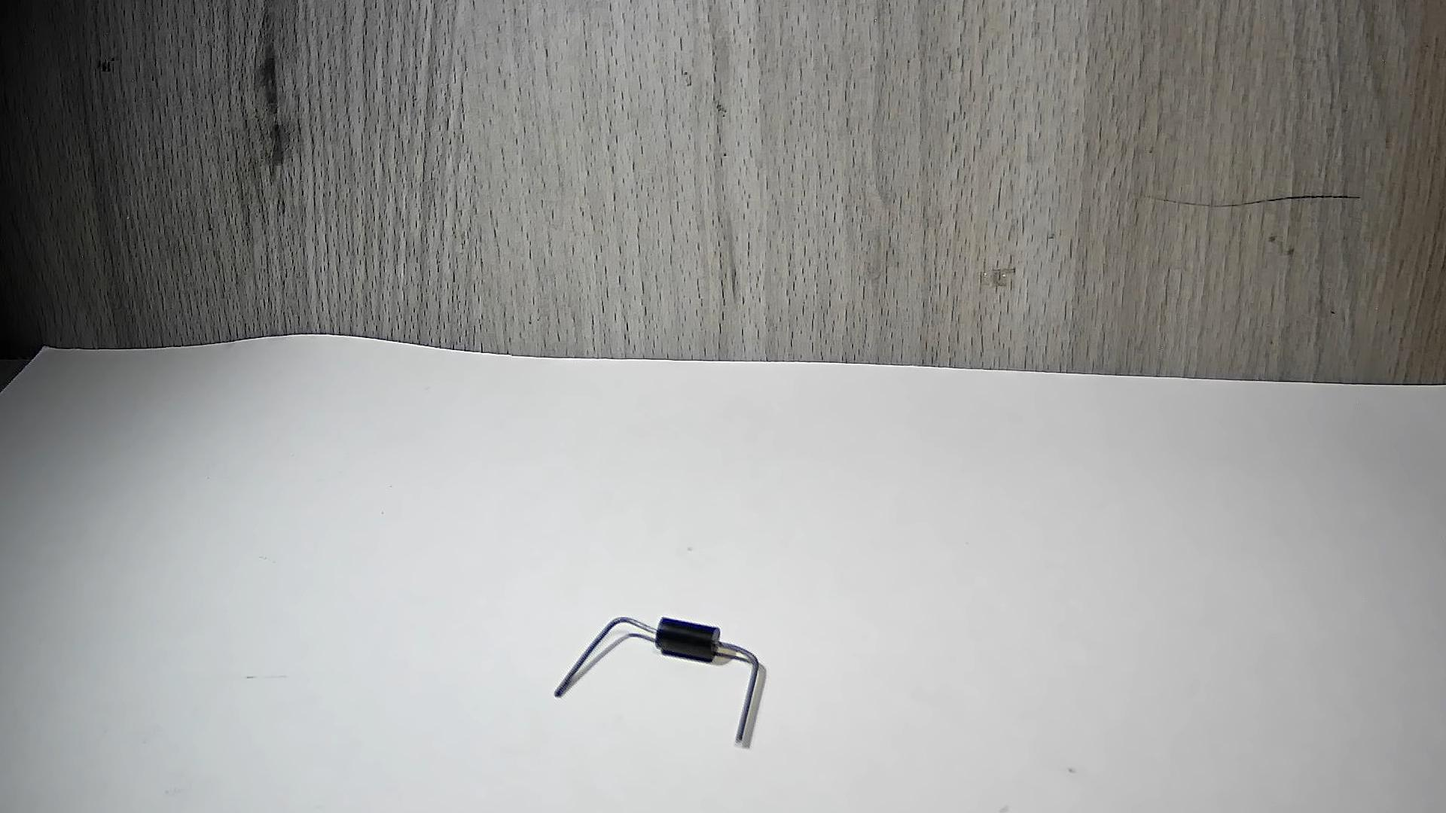Diodo: (575, 580, 799, 748)
